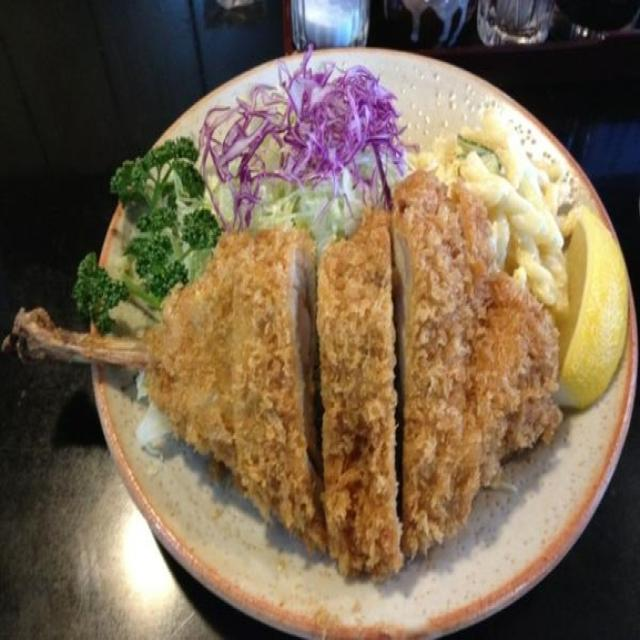鸡肉料理 含炸鸡: (35, 28, 626, 624)
